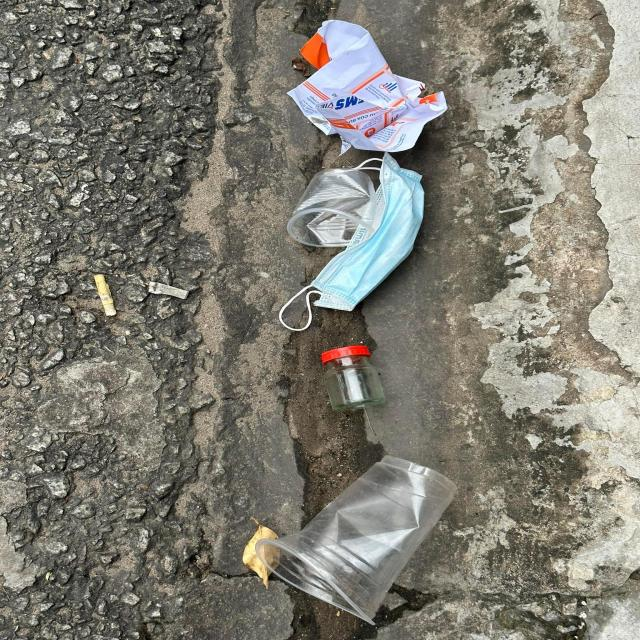mask: (278, 152, 424, 332)
paper: (287, 20, 448, 155)
plastic glass: (256, 456, 459, 626), (289, 168, 376, 247)
plastic holder: (322, 346, 387, 414)
